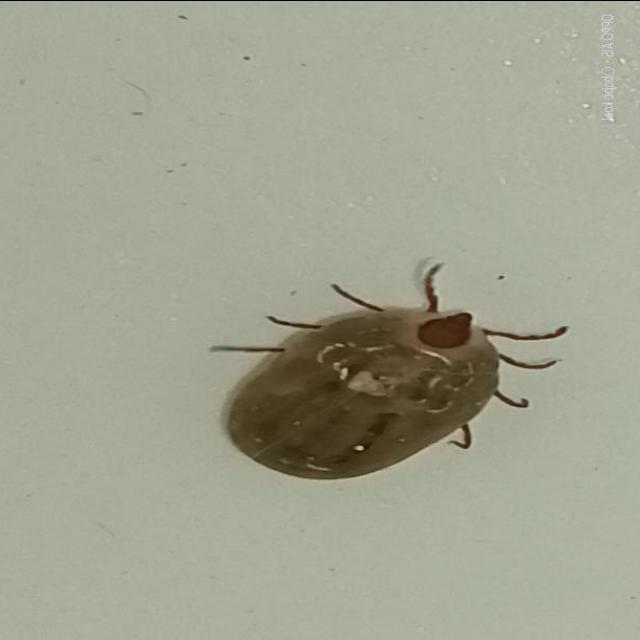Rhipicephalus Sanguineus-F-Fed: (218, 259, 569, 481)
